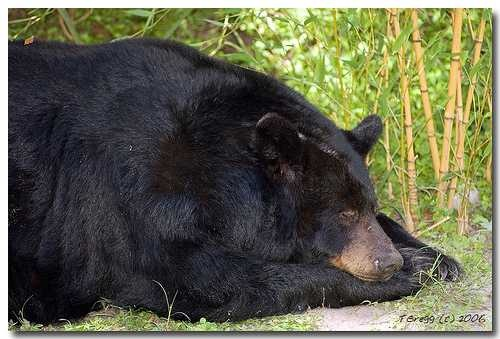bear: (278, 160, 406, 288)
